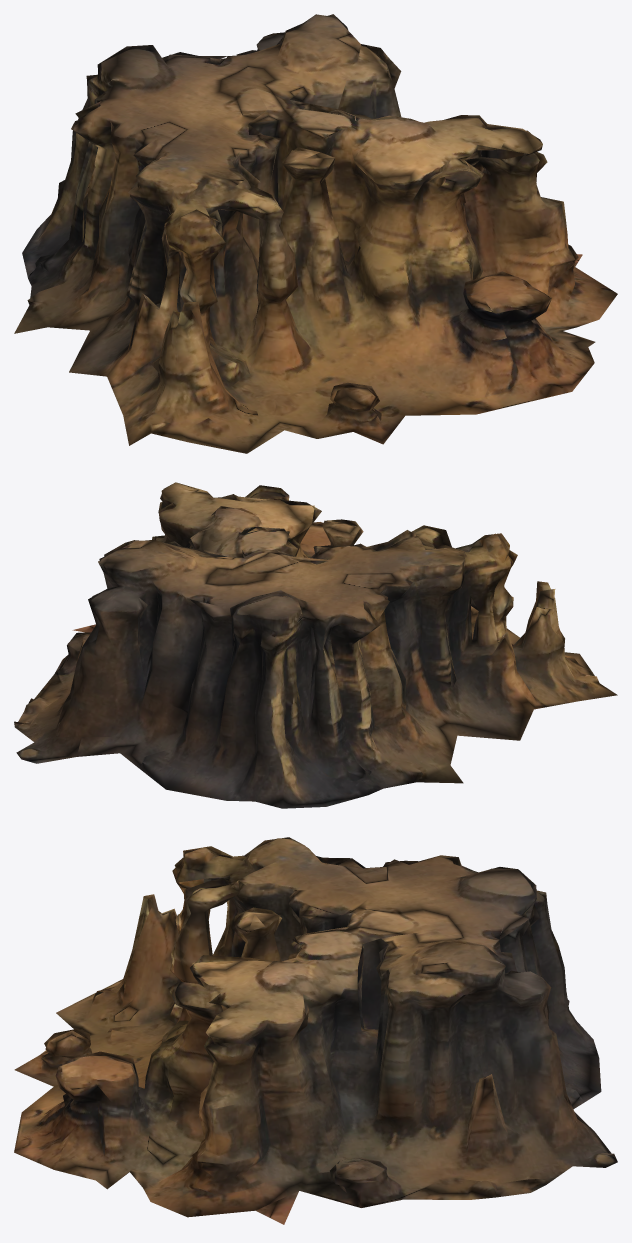
The model's file is desert-mountain-3.glb.
3 views of the same model, one above another, from view 1: azimuth 30°, elevation 25°; view 2: azimuth 150°, elevation 25°; view 3: azimuth 270°, elevation 25° (orthographic). The views are drawn at different scales.
Parts seen in each view (by area): view 1: geometry_0; view 2: geometry_0; view 3: geometry_0.
Boxes of the visible parts, x1,y1,x2,y2 form: geometry_0: [14, 14, 617, 453]; geometry_0: [14, 482, 617, 808]; geometry_0: [14, 837, 617, 1224].
Size of the model in its own units: 0.8827 by 0.3147 by 0.8856.
Materials: 1 (1 with a texture image).
